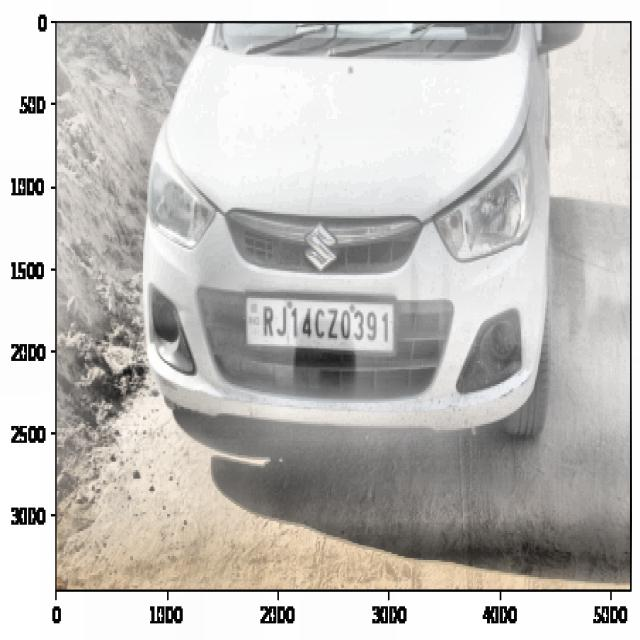license_plate: (250, 298, 396, 350)
